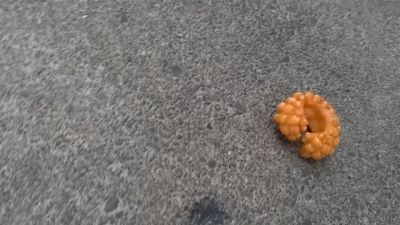eggs: (275, 91, 344, 164)
